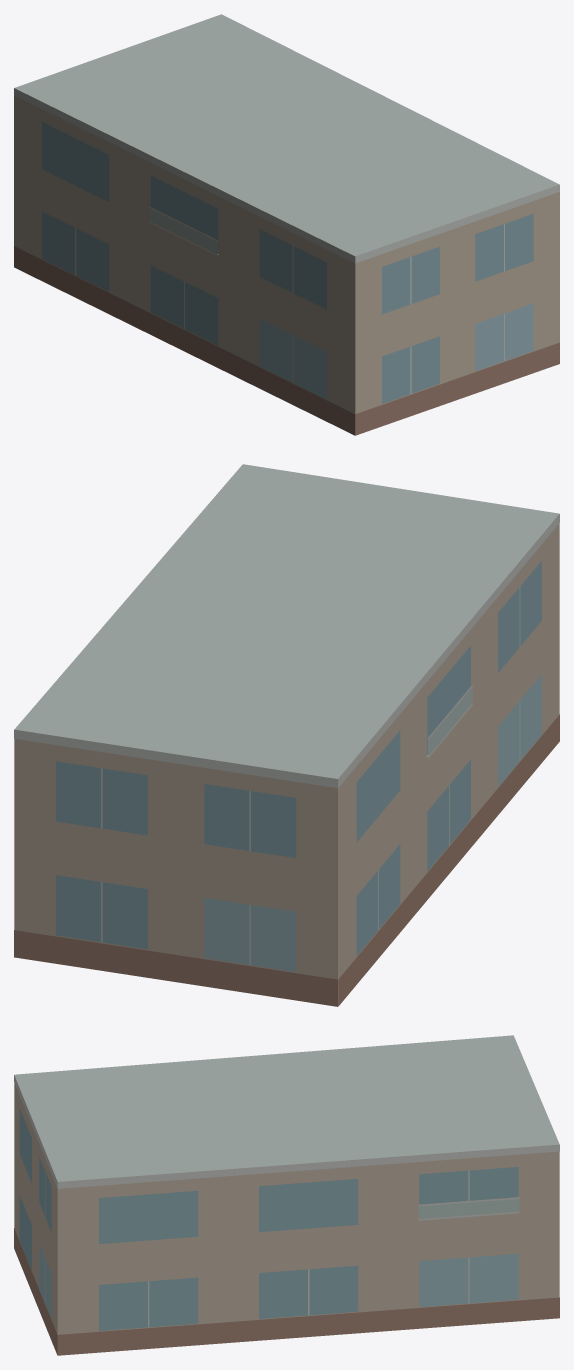
Rendered from survey-upis-32986960.glb.
3 renders of one model, top to bottom at view 1: azimuth 30°, elevation 25°; view 2: azimuth 150°, elevation 25°; view 3: azimuth 270°, elevation 25°, orthographic. The views are drawn at different scales.
Visible parts, largest first — view 1: survey-upis-32986960.tmp; view 2: survey-upis-32986960.tmp; view 3: survey-upis-32986960.tmp.
Boxes of the visible parts, <box> form: survey-upis-32986960.tmp: <box>14,14,559,435</box>; survey-upis-32986960.tmp: <box>14,464,559,1006</box>; survey-upis-32986960.tmp: <box>14,1035,559,1355</box>.
Size of the model in its own units: 11.06 by 6.1 by 17.38.
